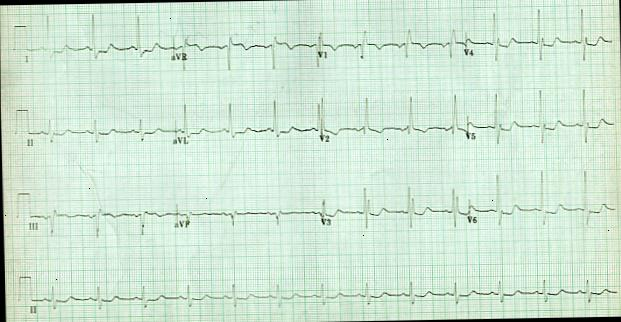Lead_I: (20, 10, 171, 80)
Lead_II: (24, 101, 172, 163)
Lead_III: (24, 185, 175, 248)
Lead_II_ext: (23, 260, 620, 321)
Lead_V1: (314, 8, 462, 78)
Lead_V2: (313, 88, 465, 158)
Lead_V3: (315, 174, 466, 238)
Lead_V4: (458, 1, 616, 72)
Lead_V5: (462, 85, 616, 152)
Lead_V6: (463, 162, 620, 244)
Lead_aVF: (173, 176, 318, 245)
Lead_aVL: (169, 93, 317, 162)
Lead_aVR: (168, 4, 316, 82)
